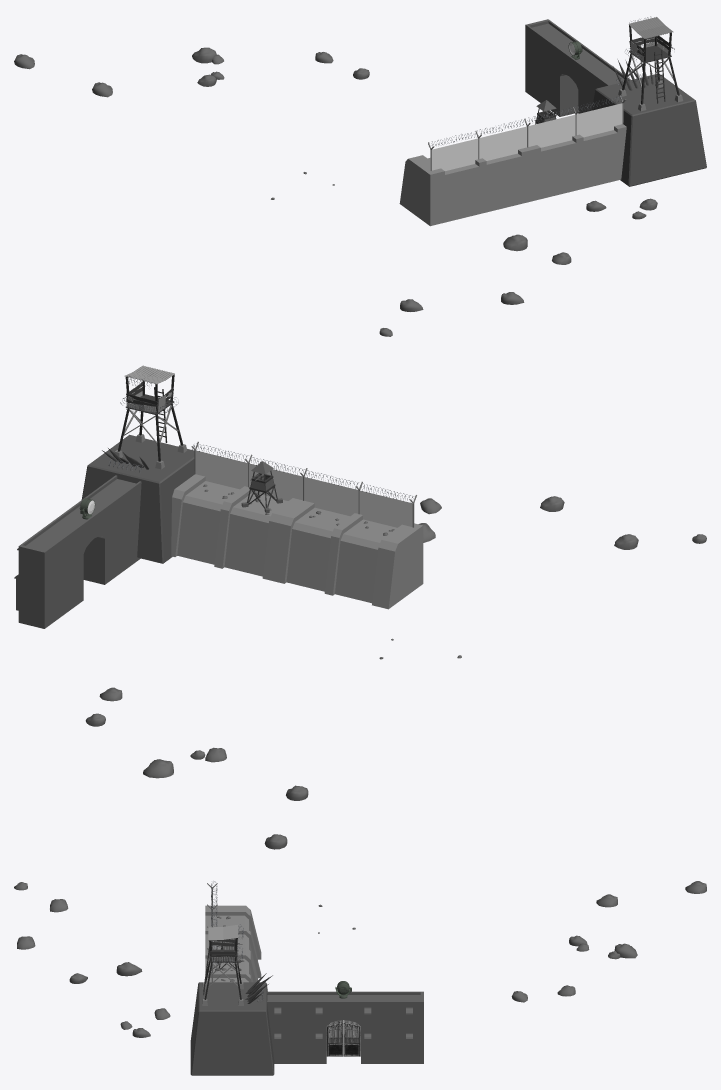
Rendered from Everything.fbx.
3 views of the same model, one above another, from view 1: azimuth 30°, elevation 25°; view 2: azimuth 150°, elevation 25°; view 3: azimuth 270°, elevation 25° (orthographic). The views are drawn at different scales.
Visible parts, largest first — view 1: Wall, StandForWatchTower, GateWall, Fence1, WatchTowerJasper, StonesGroup2, StonesGroup1; view 2: Wall, GateWall, StandForWatchTower, Fence1, WatchTowerJasper, StonesGroup1, StonesGroup2, Tower; view 3: GateWall, StandForWatchTower, Wall, WatchTowerJasper, StonesGroup1, StonesGroup2, Fence1.
Boxes of the visible parts, <box> form: Wall: <box>399,124,626,226</box>; StandForWatchTower: <box>592,74,706,186</box>; GateWall: <box>525,19,630,116</box>; Fence1: <box>428,95,625,170</box>; WatchTowerJasper: <box>613,16,683,111</box>; StonesGroup2: <box>379,198,657,336</box>; StonesGroup1: <box>14,47,369,97</box>; Wall: <box>171,474,423,609</box>; GateWall: <box>14,475,141,628</box>; StandForWatchTower: <box>81,434,194,563</box>; Fence1: <box>191,441,416,527</box>; WatchTowerJasper: <box>102,365,187,472</box>; StonesGroup1: <box>85,687,308,849</box>; StonesGroup2: <box>418,496,706,549</box>; Tower: <box>241,461,282,512</box>; GateWall: <box>267,991,423,1063</box>; StandForWatchTower: <box>190,982,274,1075</box>; Wall: <box>205,905,261,982</box>; WatchTowerJasper: <box>202,924,272,1005</box>; StonesGroup1: <box>511,881,706,1002</box>; StonesGroup2: <box>14,882,170,1037</box>; Fence1: <box>207,881,217,982</box>.
Size of what is drawn, in the model's own units: 64954 by 21454 by 100986.
